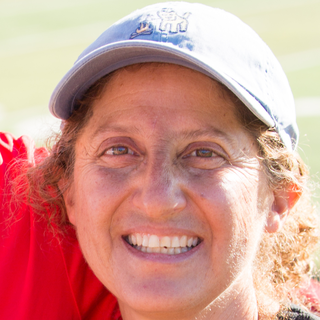eye: (178, 141, 231, 164), (91, 141, 144, 163)
